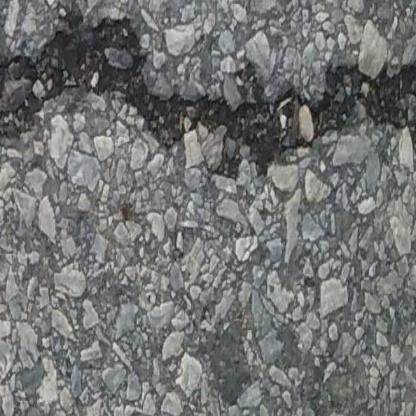Cracks: (0, 0, 416, 189)
